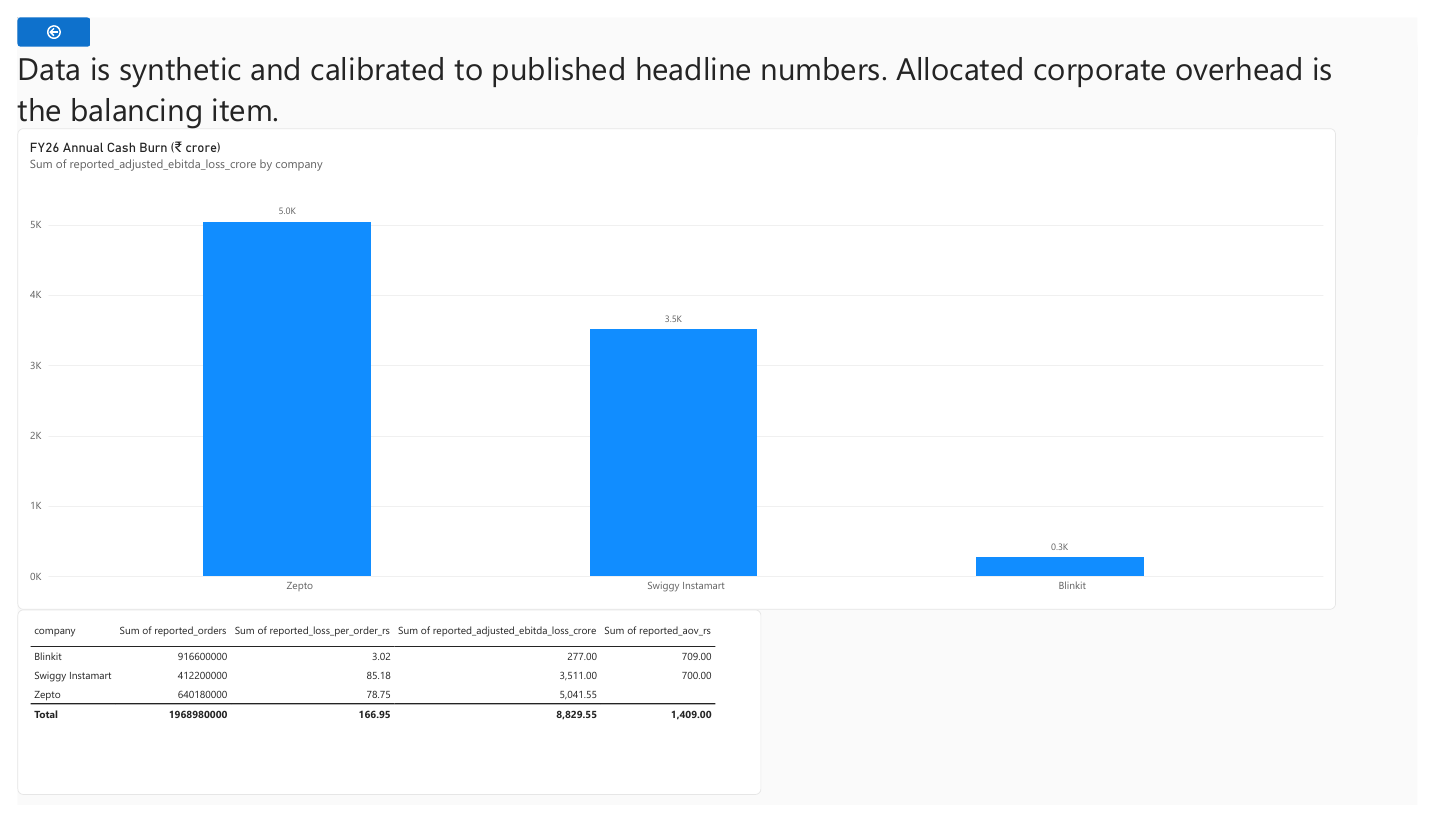

What the dashboard file says about the page in this screenshot:
{"tool":"powerbi","page":{"name":"Annual burn ","canvas":[1920,1080],"ordinal":4},"visuals":[{"type":"tableEx","fields":{"Values":["public benchmark_fy26.company","Sum(public benchmark_fy26.reported_orders)","Sum(public benchmark_fy26.reported_loss_per_order_rs)","Sum(public benchmark_fy26.reported_adjusted_ebitda_loss_crore)","Sum(public benchmark_fy26.reported_aov_rs)"]},"box":[0,812,1020,254],"z":0},{"type":"actionButton","box":[0,0,100,40],"z":1},{"type":"clusteredColumnChart","title":"FY26 Annual Cash Burn (₹ crore)","fields":{"Category":["public benchmark_fy26.company"],"Y":["Sum(public benchmark_fy26.reported_adjusted_ebitda_loss_crore)"]},"box":[0,152,1808,660],"z":2},{"type":"textbox","box":[0,40,1874,126],"z":3}]}

Visuals, with their boxes in screenshot pixels (x1, y1, x2, y2), scaled from the page's 1920x1080 canvas onto the 1435x823 screenshot:
tableEx - public benchmark_fy26.company x Sum(public benchmark_fy26.reported_orders): 0 619 762 812
actionButton: 0 0 75 30
"FY26 Annual Cash Burn (₹ crore)" clusteredColumnChart: 0 116 1351 619
textbox: 0 30 1401 126
